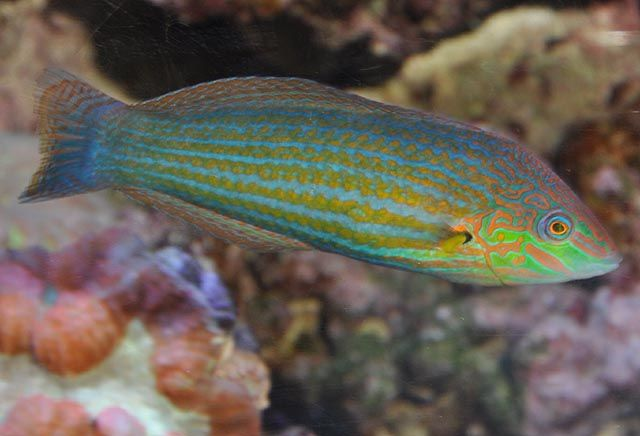fish: (18, 66, 623, 288)
